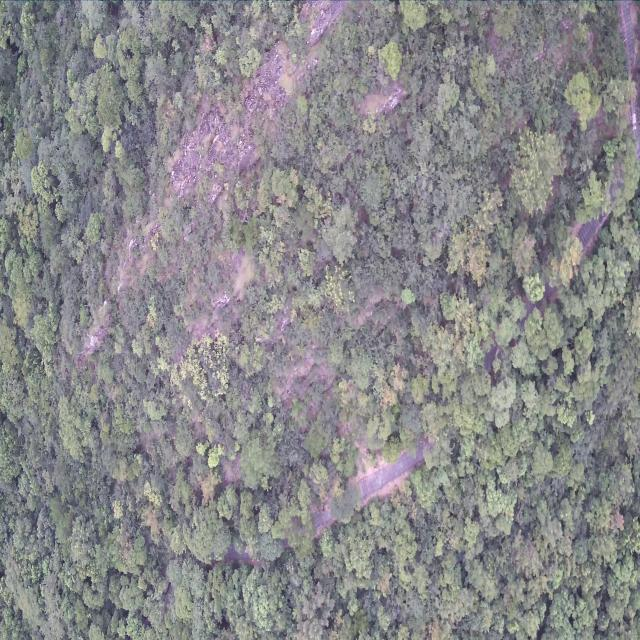UAV: (86, 333, 98, 348)
